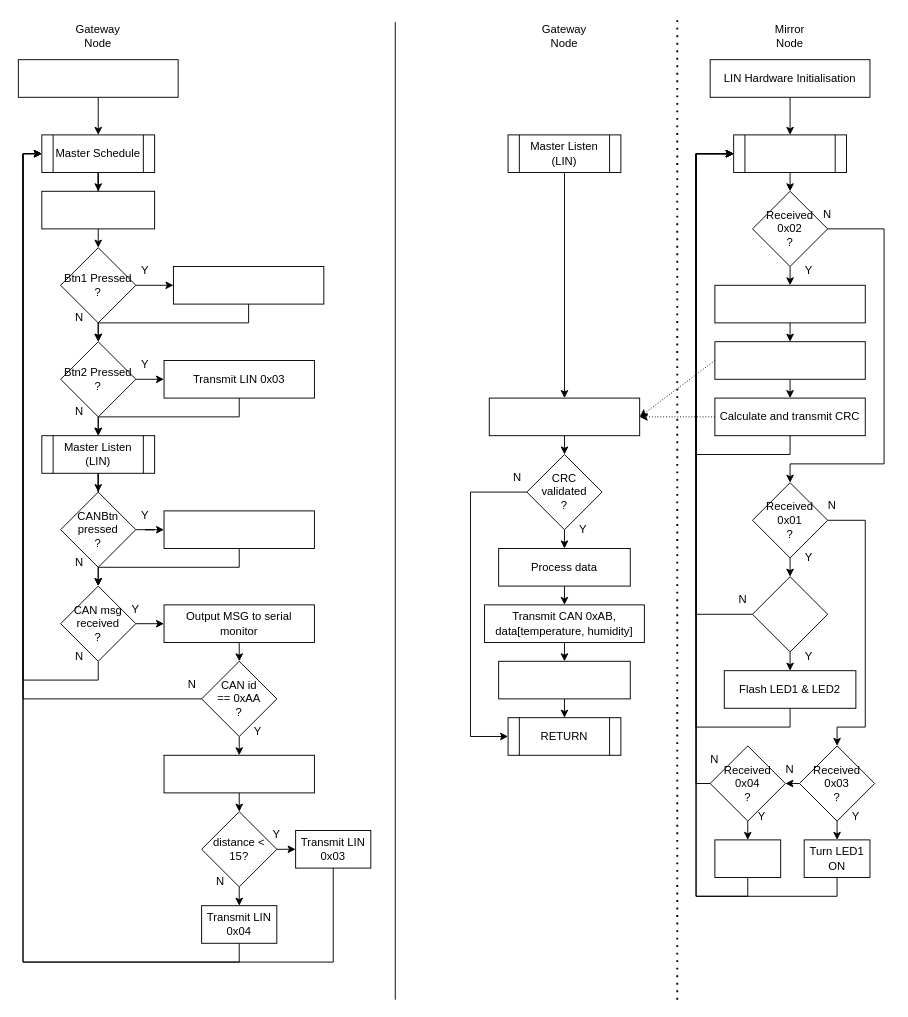
Image size: 908x1017. Some labels were removed from this diagram. Here are the shapes that lost their labels. From the top down, the centre of each, then its label:
(x=97, y=78): LIN & CAN Hardware Initialisation
(x=789, y=153): Main Loop
(x=98, y=209): Transmit LIN 0x02
(x=248, y=285): Transmit LIN 0x01 data[0x010,0x011x0x012]
(x=789, y=303): Measure Temperature/ Humidity
(x=789, y=360): Transmit onto LIN
(x=564, y=416): Listen for Response
(x=238, y=529): Transmit CAN 0x0F, dlc8, data[0x01]
(x=790, y=614): received data valid?
(x=564, y=679): Output to Serial (debugging)
(x=238, y=773): Distance recived
(x=747, y=858): Turn LED1 OFF
